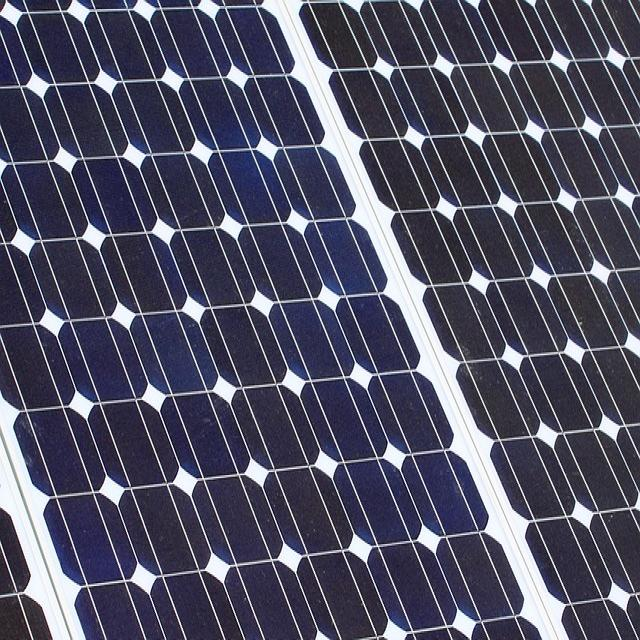clean-solar-panel: (1, 0, 640, 637)
